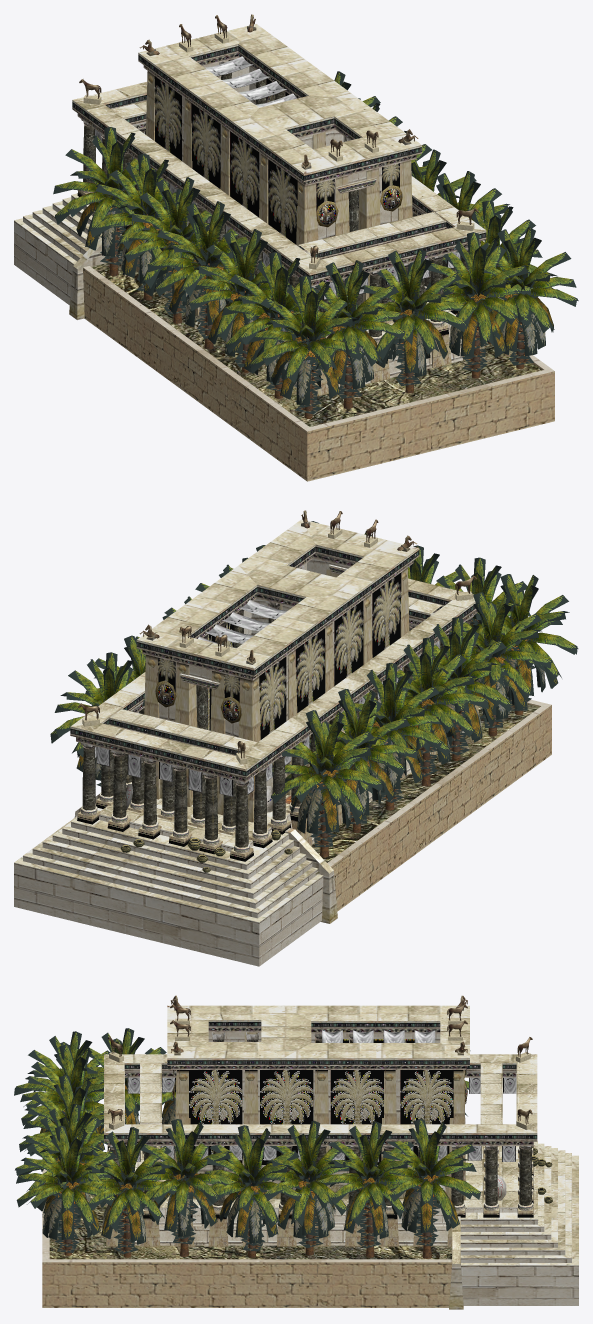
Rendered from wonder.glb.
3 renders of one model, top to bottom at view 1: azimuth 30°, elevation 25°; view 2: azimuth 150°, elevation 25°; view 3: azimuth 270°, elevation 25°, orthographic. The views are drawn at different scales.
Visible parts, largest first — view 1: wonder_part0, wonder_part1, wonder_part2, wonder_part16, wonder_part17, wonder_part18, wonder_part19, wonder_part8, wonder_part13, wonder_part10, wonder_part14, wonder_part12 (+5 smaller); view 2: wonder_part0, wonder_part1, wonder_part10, wonder_part13, wonder_part15, wonder_part12, wonder_part11, wonder_part14, wonder_part16, wonder_part2, wonder_part3, wonder_part19 (+2 smaller); view 3: wonder_part0, wonder_part1, wonder_part3, wonder_part8, wonder_part2, wonder_part4, wonder_part7, wonder_part6, wonder_part5, wonder_part9, wonder_part17, wonder_part19 (+4 smaller).
Part boxes in pixels (bbox=[...]): wonder_part0: bbox=[14, 14, 554, 481]; wonder_part1: bbox=[154, 76, 399, 244]; wonder_part2: bbox=[91, 263, 542, 426]; wonder_part16: bbox=[248, 275, 365, 418]; wonder_part17: bbox=[426, 232, 536, 378]; wonder_part18: bbox=[358, 248, 468, 393]; wonder_part19: bbox=[291, 260, 404, 408]; wonder_part8: bbox=[481, 227, 578, 368]; wonder_part13: bbox=[147, 201, 248, 349]; wonder_part10: bbox=[53, 127, 156, 276]; wonder_part14: bbox=[187, 229, 289, 372]; wonder_part12: bbox=[119, 177, 232, 323]; wonder_part0: bbox=[14, 510, 551, 966]; wonder_part1: bbox=[158, 572, 401, 767]; wonder_part10: bbox=[271, 710, 383, 857]; wonder_part13: bbox=[381, 637, 488, 786]; wonder_part15: bbox=[439, 592, 552, 736]; wonder_part12: bbox=[354, 662, 449, 810]; wonder_part11: bbox=[303, 689, 417, 832]; wonder_part14: bbox=[406, 617, 511, 760]; wonder_part16: bbox=[473, 574, 578, 715]; wonder_part2: bbox=[311, 704, 539, 874]; wonder_part3: bbox=[50, 652, 144, 786]; wonder_part19: bbox=[436, 557, 530, 706]; wonder_part0: bbox=[42, 995, 578, 1309]; wonder_part1: bbox=[189, 1039, 453, 1164]; wonder_part3: bbox=[380, 1119, 481, 1258]; wonder_part8: bbox=[16, 1126, 116, 1255]; wonder_part2: bbox=[49, 1164, 451, 1259]; wonder_part4: bbox=[317, 1121, 418, 1257]; wonder_part7: bbox=[135, 1119, 237, 1256]; wonder_part6: bbox=[203, 1125, 301, 1257]; wonder_part5: bbox=[262, 1120, 350, 1255]; wonder_part9: bbox=[80, 1127, 176, 1257]; wonder_part17: bbox=[15, 1103, 109, 1231]; wonder_part19: bbox=[20, 1044, 126, 1150].
Size of the model in its own units: 3.92 by 3.05 by 6.5.
Materials: 3 (3 with a texture image).
